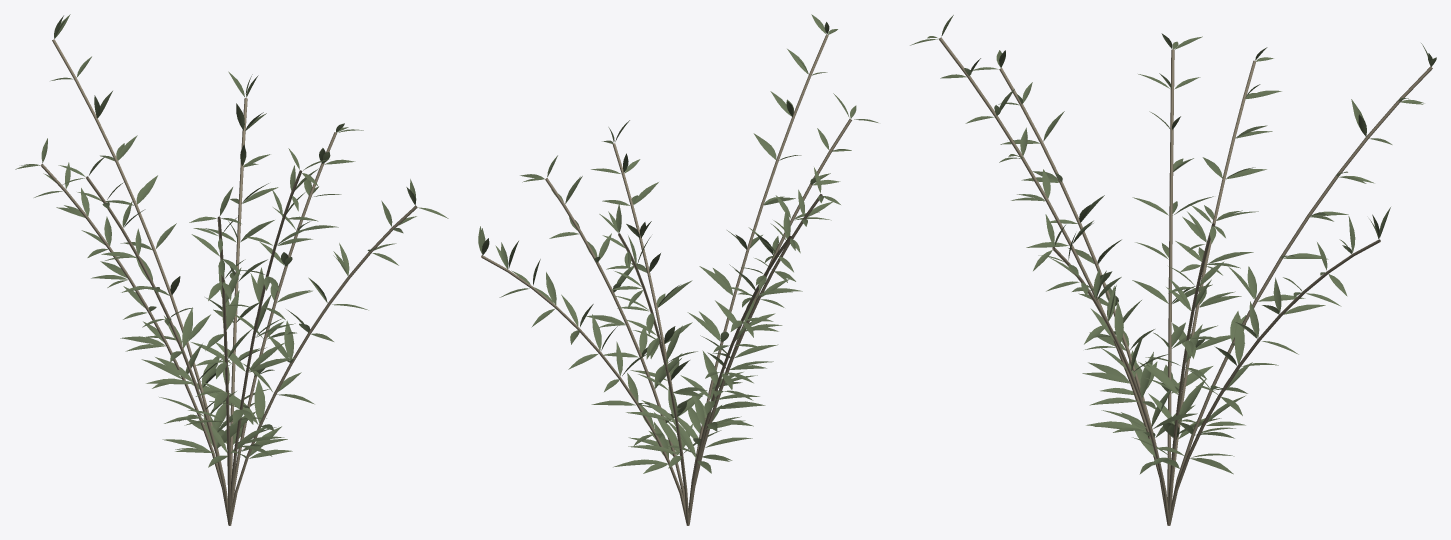
Rendered from olive-1.glb.
3 views of the same model, side by side, from view 1: azimuth 30°, elevation 25°; view 2: azimuth 150°, elevation 25°; view 3: azimuth 270°, elevation 25° (orthographic). The views are drawn at different scales.
Visible parts, largest first — view 1: olive-leaves, olive-stems; view 2: olive-leaves, olive-stems; view 3: olive-leaves, olive-stems.
Part boxes in pixels (<box>): olive-leaves: <box>15,14,448,467</box>; olive-stems: <box>40,39,417,525</box>; olive-leaves: <box>478,14,878,473</box>; olive-stems: <box>481,34,851,525</box>; olive-leaves: <box>910,15,1436,474</box>; olive-stems: <box>939,37,1432,525</box>.
Bounding box in the file's own units: 0.4687 × 0.6419 × 0.6275.
